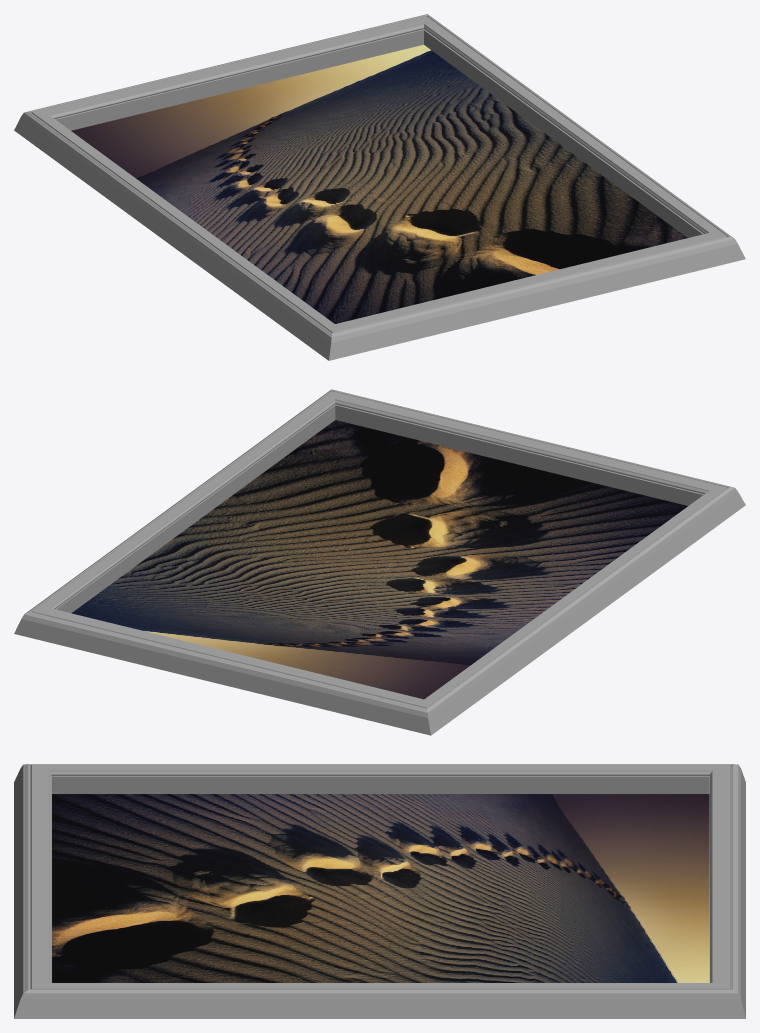
Rendered from tablo.gltf.
3 renders of one model, top to bottom at view 1: azimuth 30°, elevation 25°; view 2: azimuth 150°, elevation 25°; view 3: azimuth 270°, elevation 25°, orthographic. The views are drawn at different scales.
Parts seen in each view (by area): view 1: tablo; view 2: tablo; view 3: tablo.
Boxes of the visible parts, left/top/right/bottom form: tablo: left=14, top=14, right=745, bottom=360; tablo: left=14, top=389, right=745, bottom=735; tablo: left=14, top=764, right=745, bottom=1018.
Bounding box in the file's own units: 0.8511 × 0.04 × 1.11.
Materials: 2 (1 with a texture image).
